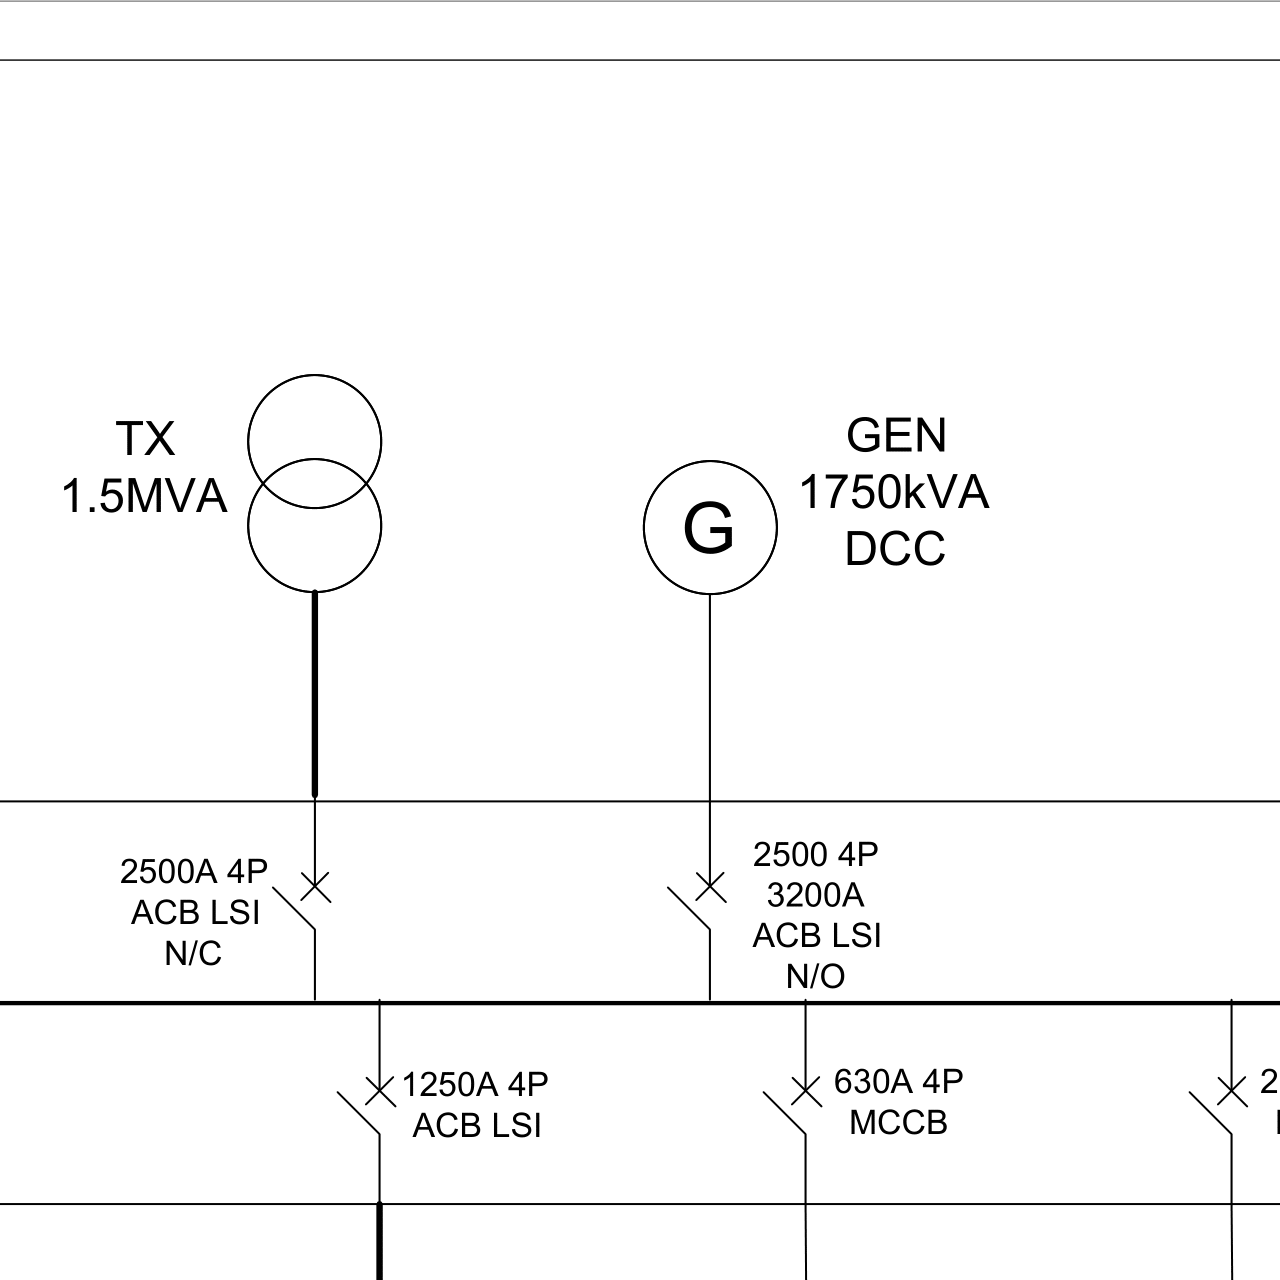Generator: (622, 450, 794, 611)
Transformer: (238, 374, 406, 602)
